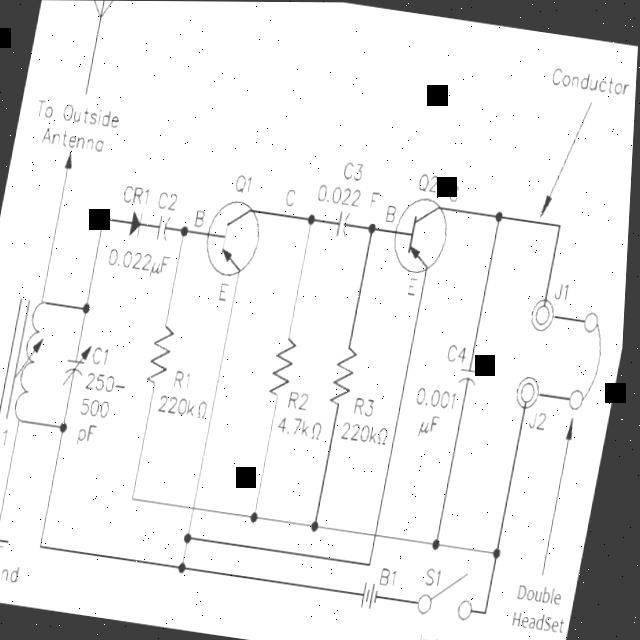capacitor: (61, 338, 100, 399), (151, 203, 183, 249), (457, 355, 490, 397), (328, 202, 359, 242)
diode: (123, 200, 154, 246)
ground: (0, 516, 23, 565)
inductor: (0, 281, 62, 436)
node: (486, 198, 516, 229), (296, 203, 326, 231), (491, 534, 512, 569), (177, 551, 202, 580), (309, 510, 330, 541), (364, 212, 388, 239), (430, 530, 451, 557), (82, 295, 100, 323), (58, 411, 76, 439), (178, 218, 196, 244), (185, 523, 201, 548), (251, 508, 268, 528)
resistor: (256, 319, 311, 417), (324, 326, 367, 424), (142, 307, 184, 401)
source: (356, 565, 399, 614)
switch: (412, 563, 491, 631)
transistor: (380, 185, 468, 288), (199, 190, 277, 290)
